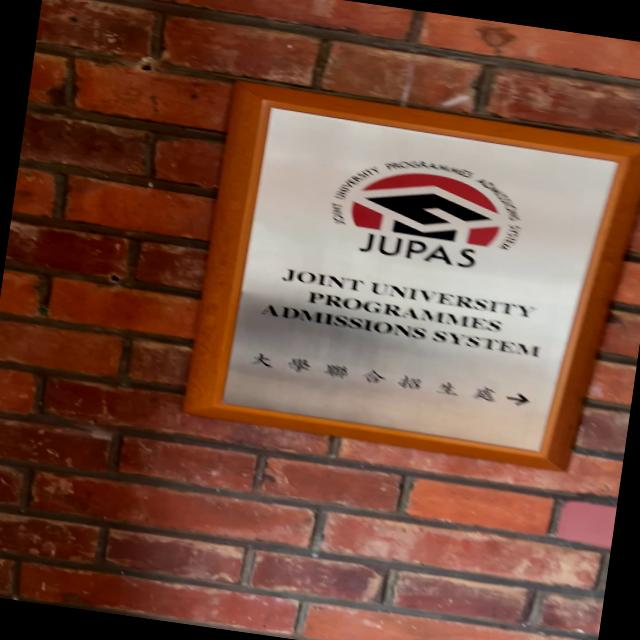jupasOffice: (162, 64, 640, 484)
